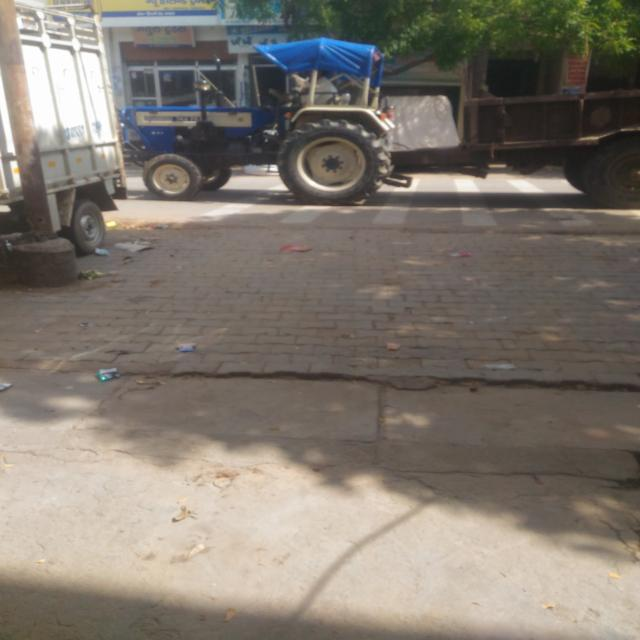Tractor: (126, 27, 640, 196)
